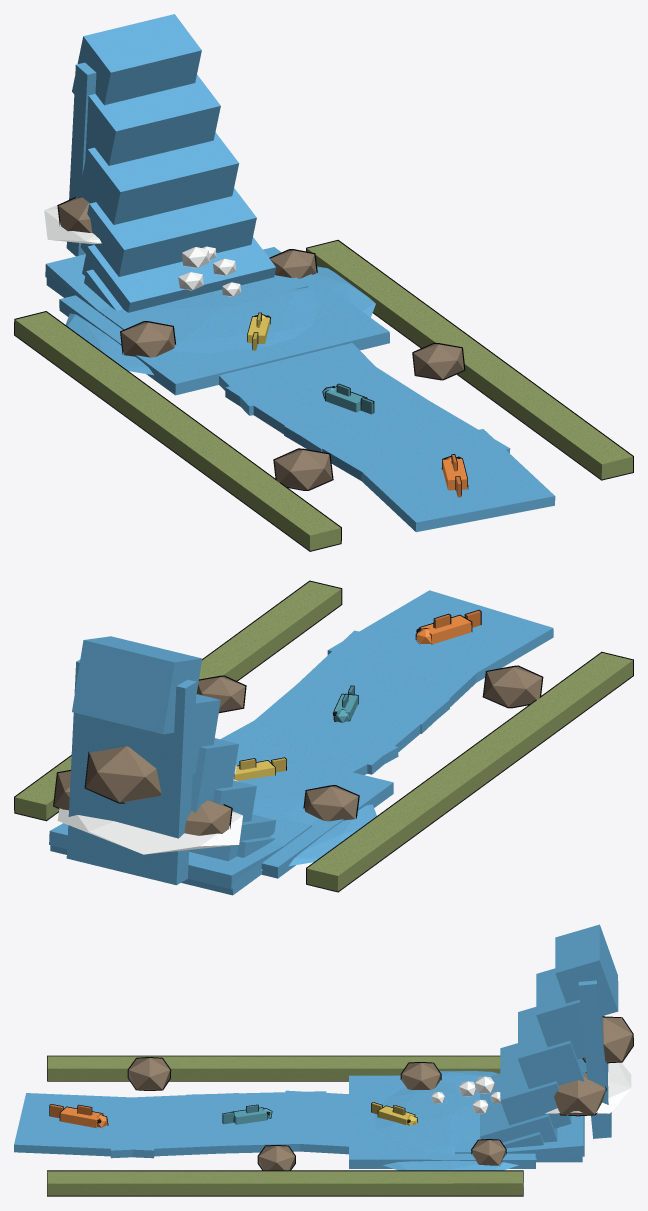
The model's file is bethlehem_stream_fish_alive_v5.glb.
3 views of the same model, one above another, from view 1: azimuth 30°, elevation 25°; view 2: azimuth 150°, elevation 25°; view 3: azimuth 270°, elevation 25° (orthographic). The views are drawn at different scales.
Visible parts, largest first — view 1: Waterfall_Main, Stream_Main, Stream_Pool, Bank_0, Bank_1, Rock_0, Rock_2, Rock_1, Bank_0_Outline, Bank_1_Outline, Rock_3, WF_Rock_0 (+3 smaller); view 2: Waterfall_Main, Stream_Main, Bank_0, Stream_Pool, Bank_1, Foam_Splash, WF_Rock_2, Rock_0, Rock_2, Fish_Orange, Bank_0_Outline, WF_Rock_0 (+5 smaller); view 3: Stream_Main, Waterfall_Main, Stream_Pool, Bank_1, Bank_0, Bank_1_Outline, WF_Rock_1, Bank_0_Outline, WF_Rock_2, Rock_0, Foam_Splash, Rock_2 (+5 smaller).
Part boxes in pixels (left/top/right/bottom): Waterfall_Main: left=66, top=14, right=275, bottom=312; Stream_Main: left=219, top=343, right=555, bottom=532; Stream_Pool: left=45, top=247, right=389, bottom=395; Bank_0: left=15, top=312, right=340, bottom=550; Bank_1: left=307, top=241, right=632, bottom=479; Rock_0: left=274, top=449, right=332, bottom=489; Rock_2: left=121, top=322, right=174, bottom=357; Rock_1: left=413, top=344, right=463, bottom=379; Bank_0_Outline: left=14, top=311, right=341, bottom=551; Bank_1_Outline: left=306, top=240, right=633, bottom=480; Rock_3: left=270, top=250, right=316, bottom=278; WF_Rock_0: left=58, top=197, right=92, bottom=232; Waterfall_Main: left=66, top=636, right=276, bottom=885; Stream_Main: left=220, top=590, right=553, bottom=775; Bank_0: left=307, top=653, right=632, bottom=891; Stream_Pool: left=49, top=744, right=393, bottom=895; Bank_1: left=15, top=581, right=341, bottom=819; Foam_Splash: left=57, top=808, right=242, bottom=854; WF_Rock_2: left=85, top=746, right=161, bottom=802; Rock_0: left=484, top=666, right=541, bottom=706; Rock_2: left=304, top=786, right=358, bottom=821; Fish_Orange: left=416, top=610, right=480, bottom=644; Bank_0_Outline: left=306, top=651, right=633, bottom=892; WF_Rock_0: left=184, top=800, right=231, bottom=835; Stream_Main: left=14, top=1090, right=348, bottom=1158; Waterfall_Main: left=480, top=924, right=618, bottom=1148; Stream_Pool: left=349, top=1071, right=584, bottom=1170; Bank_1: left=47, top=1171, right=523, bottom=1195; Bank_0: left=47, top=1056, right=500, bottom=1080; Bank_1_Outline: left=47, top=1170, right=523, bottom=1196; WF_Rock_1: left=554, top=1073, right=605, bottom=1115; Bank_0_Outline: left=47, top=1055, right=499, bottom=1081; WF_Rock_2: left=583, top=1017, right=632, bottom=1062; Rock_0: left=128, top=1058, right=170, bottom=1089; Foam_Splash: left=545, top=1062, right=631, bottom=1113; Rock_2: left=401, top=1063, right=440, bottom=1089.
Size of the model in its own units: 3.56 by 2.57 by 7.3.
17 materials, 17 textured.
